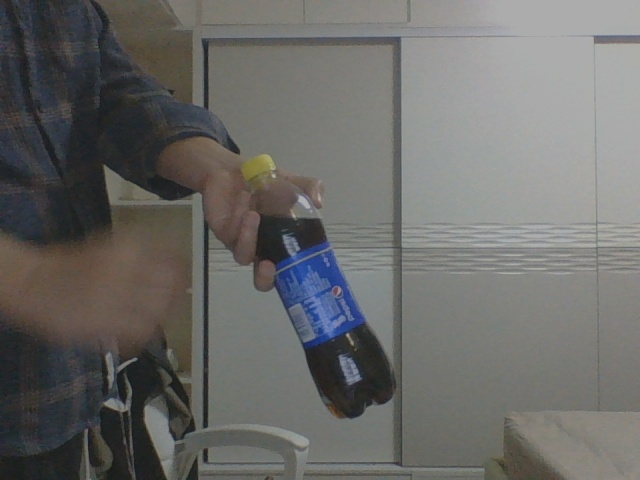Cola: (240, 154, 392, 419)
